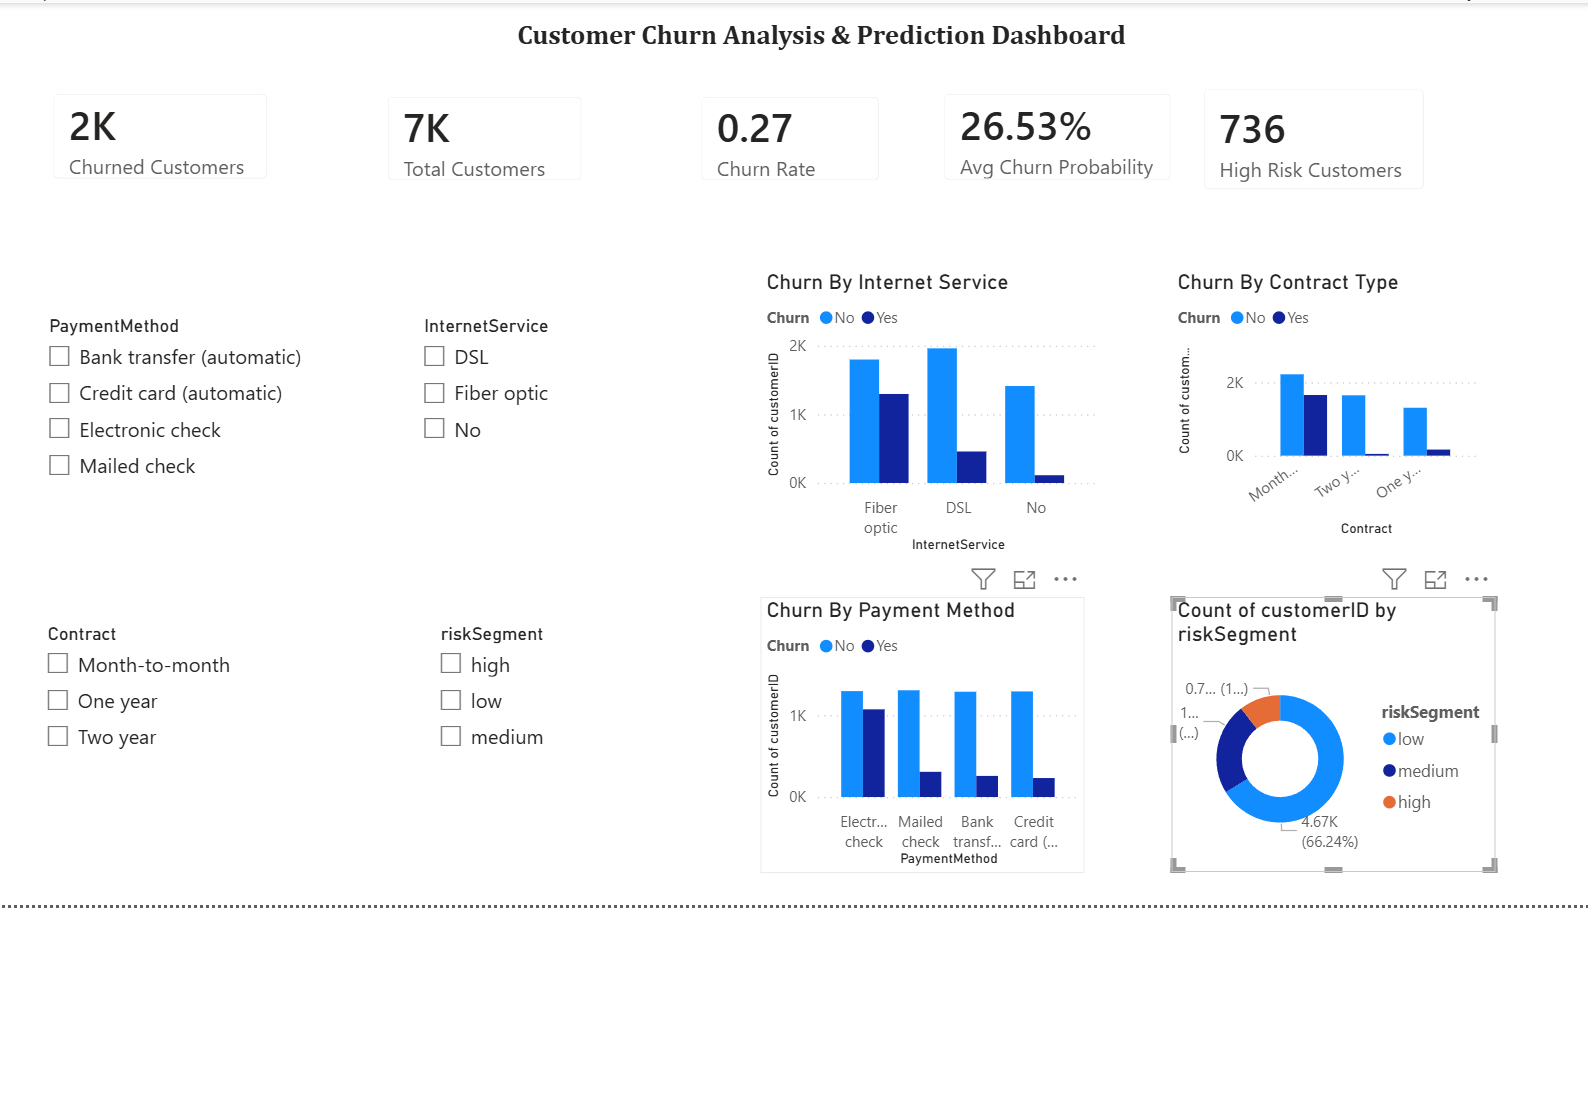

The page's visual inventory and layout, read from the dashboard file:
{"tool":"powerbi","page":{"name":"Page 1","canvas":[1280,720],"ordinal":0},"visuals":[{"type":"cardVisual","fields":{"Data":["churn_scored_customers.Total Customers"]},"box":[338.7,56.5,189.9,101.4],"z":0},{"type":"cardVisual","fields":{"Data":["churn_scored_customers.Churned Customers"]},"box":[25.7,55.2,205.3,102.6],"z":1000},{"type":"cardVisual","fields":{"Data":["churn_scored_customers.Churn Rate"]},"box":[655.6,56.5,175.8,101.4],"z":2000},{"type":"clusteredColumnChart","fields":{"Category":["churn_scored_customers.InternetService"],"Y":["CountNonNull(churn_scored_customers.customerID)"],"Series":["churn_scored_customers.Churn"]},"box":[606.9,211.7,274.6,230.9],"z":3000},{"type":"clusteredColumnChart","fields":{"Category":["churn_scored_customers.Contract"],"Y":["CountNonNull(churn_scored_customers.customerID)"],"Series":["churn_scored_customers.Churn"]},"box":[935.3,211.7,248.9,218.1],"z":4000},{"type":"clusteredColumnChart","fields":{"Category":["churn_scored_customers.PaymentMethod"],"Y":["CountNonNull(churn_scored_customers.customerID)"],"Series":["churn_scored_customers.Churn"]},"box":[606.9,474.7,259.2,219.4],"z":4001},{"type":"donutChart","fields":{"Category":["churn_scored_customers.riskSegment"],"Y":["CountNonNull(churn_scored_customers.customerID)"]},"box":[935.3,473.4,259.2,219.4],"z":4002},{"type":"slicer","fields":{"Values":["churn_scored_customers.Contract"]},"box":[25.7,490.1,248.9,186],"z":4003},{"type":"slicer","fields":{"Values":["churn_scored_customers.InternetService"]},"box":[325.9,243.8,248.9,186],"z":4004},{"type":"slicer","fields":{"Values":["churn_scored_customers.riskSegment"]},"box":[338.7,490.1,250.2,186],"z":4005},{"type":"slicer","fields":{"Values":["churn_scored_customers.PaymentMethod"]},"box":[26,244,249,231],"z":4006}]}

Visuals, with their boxes on the page's 1280x720 design canvas (x1, y1, x2, y2). These are canvas units, not pixel positions in the 1588x1099 screenshot, which may show the page scaled, cropped or inside an application window:
cardVisual - churn_scored_customers.Total Customers: left=339, top=56, right=529, bottom=158
cardVisual - churn_scored_customers.Churned Customers: left=26, top=55, right=231, bottom=158
cardVisual - churn_scored_customers.Churn Rate: left=656, top=56, right=831, bottom=158
clusteredColumnChart - churn_scored_customers.InternetService x CountNonNull(churn_scored_customers.customerID): left=607, top=212, right=882, bottom=443
clusteredColumnChart - churn_scored_customers.Contract x CountNonNull(churn_scored_customers.customerID): left=935, top=212, right=1184, bottom=430
clusteredColumnChart - churn_scored_customers.PaymentMethod x CountNonNull(churn_scored_customers.customerID): left=607, top=475, right=866, bottom=694
donutChart - churn_scored_customers.riskSegment x CountNonNull(churn_scored_customers.customerID): left=935, top=473, right=1194, bottom=693
slicer - churn_scored_customers.Contract: left=26, top=490, right=275, bottom=676
slicer - churn_scored_customers.InternetService: left=326, top=244, right=575, bottom=430
slicer - churn_scored_customers.riskSegment: left=339, top=490, right=589, bottom=676
slicer - churn_scored_customers.PaymentMethod: left=26, top=244, right=275, bottom=475
